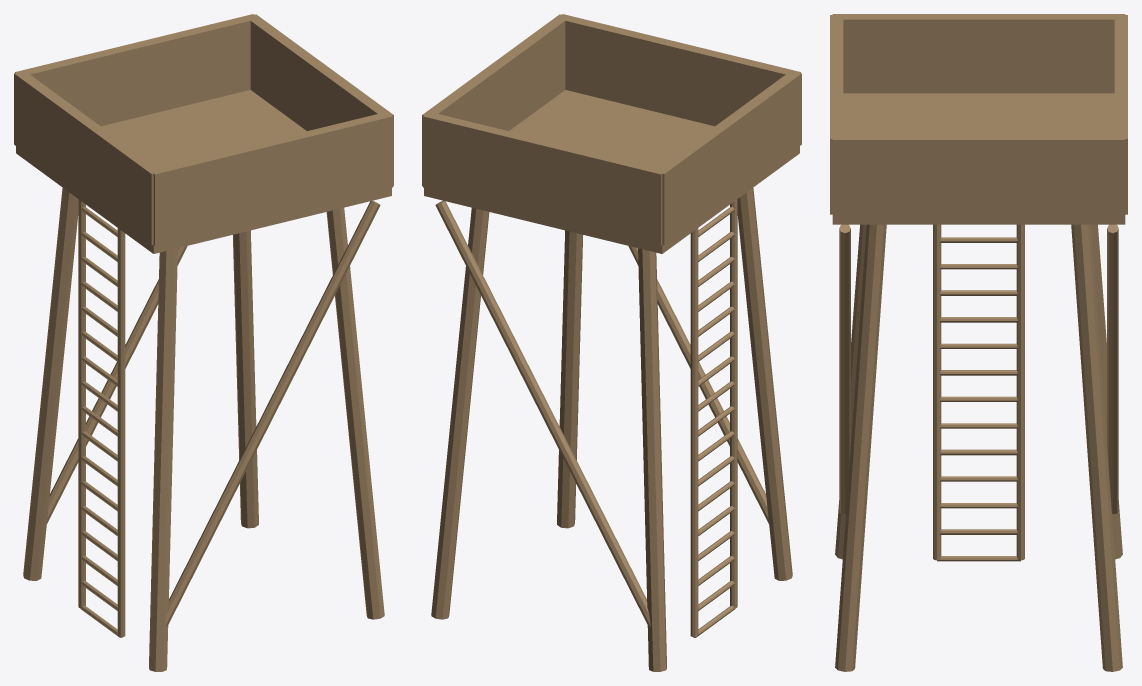
The model's file is watchtower.glb.
The picture shows the model from 3 angles, left to right: view 1: azimuth 30°, elevation 25°; view 2: azimuth 150°, elevation 25°; view 3: azimuth 270°, elevation 25°; orthographic projection. The views are drawn at different scales.
Visible parts, largest first — view 1: VisibleGeometry; view 2: VisibleGeometry; view 3: VisibleGeometry.
Boxes of the visible parts, x1=… form: VisibleGeometry: x1=14, y1=14, x2=393, y2=671; VisibleGeometry: x1=422, y1=14, x2=801, y2=671; VisibleGeometry: x1=830, y1=14, x2=1127, y2=671.
Bounding box in the file's own units: 3.56 × 7.09 × 3.56.
